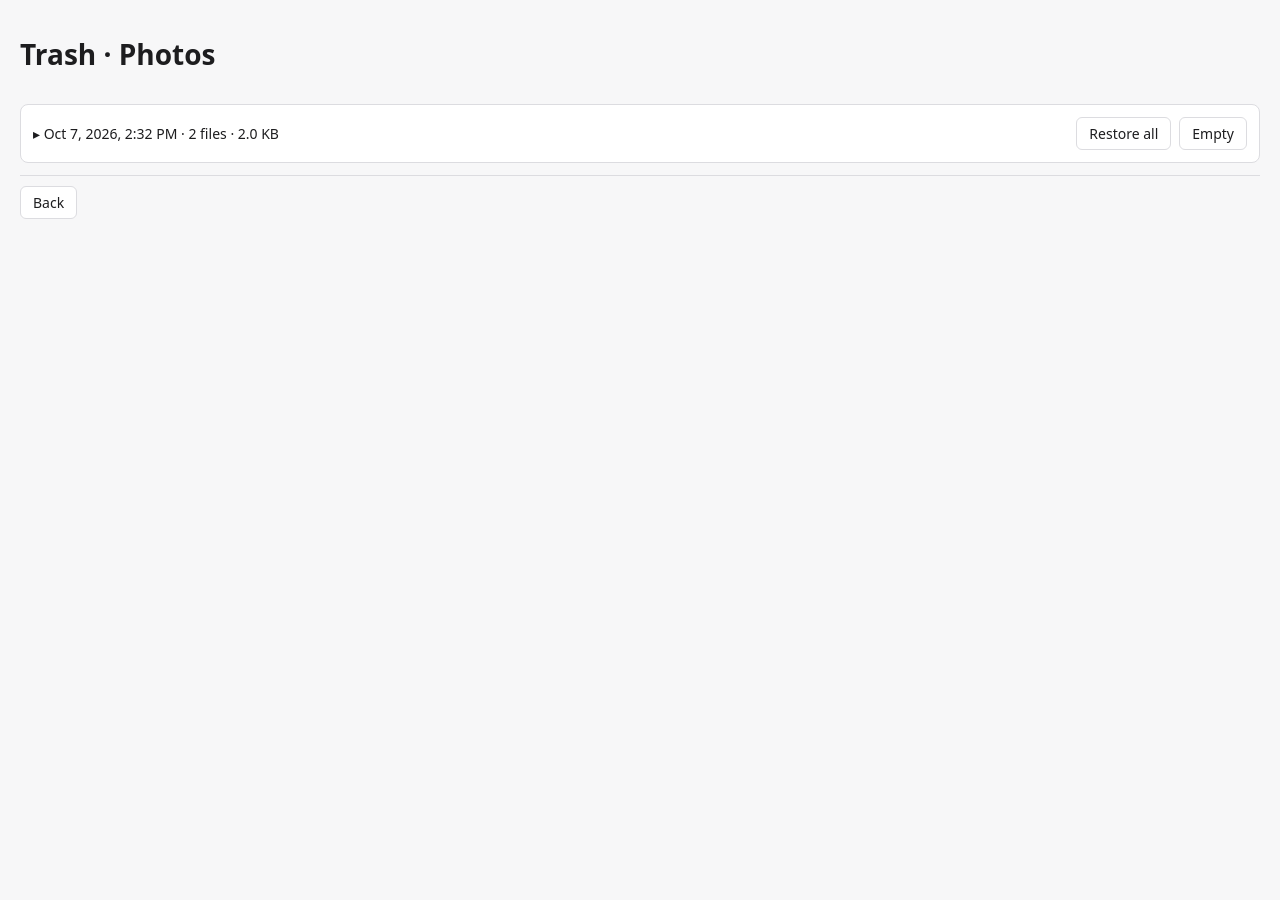
Test: Trash › restores selected files and asks before replacing
The image size is (1280, 900).
Click the button "▸ Oct 7, 2026, 2:32 PM · 2 files · 2.0 KB". click: {"x": 156, "y": 133}
box: 33,124 -> 279,142
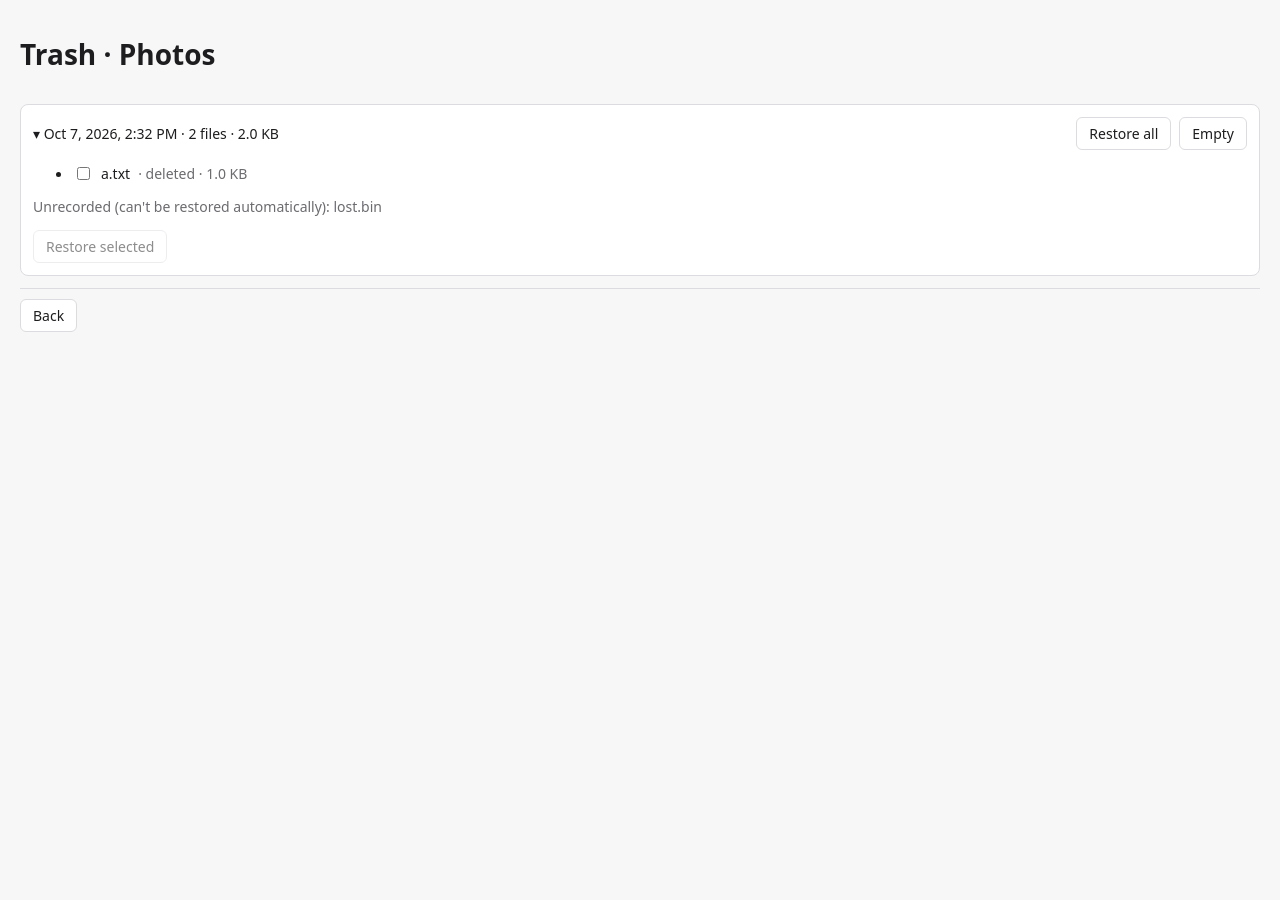
Expected: the text "Unrecorded (can't be restored automatically): lost.bin" is shown, 33,196 -> 382,216
Click the checkbox labelled "a.txt". click: {"x": 84, "y": 173}
box: 77,166 -> 90,180
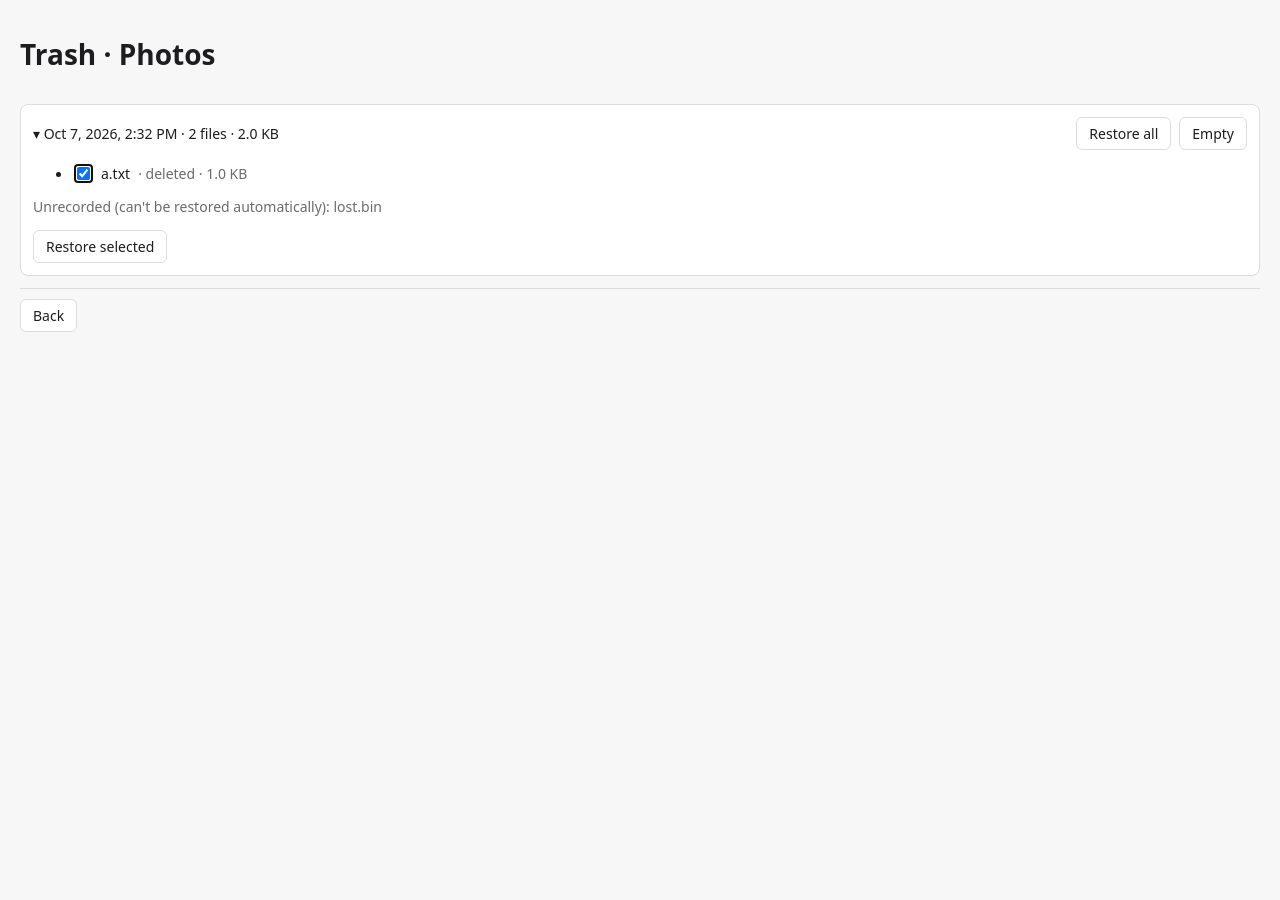
Click the button "Restore selected". click: {"x": 100, "y": 246}
box: 33,230 -> 167,262
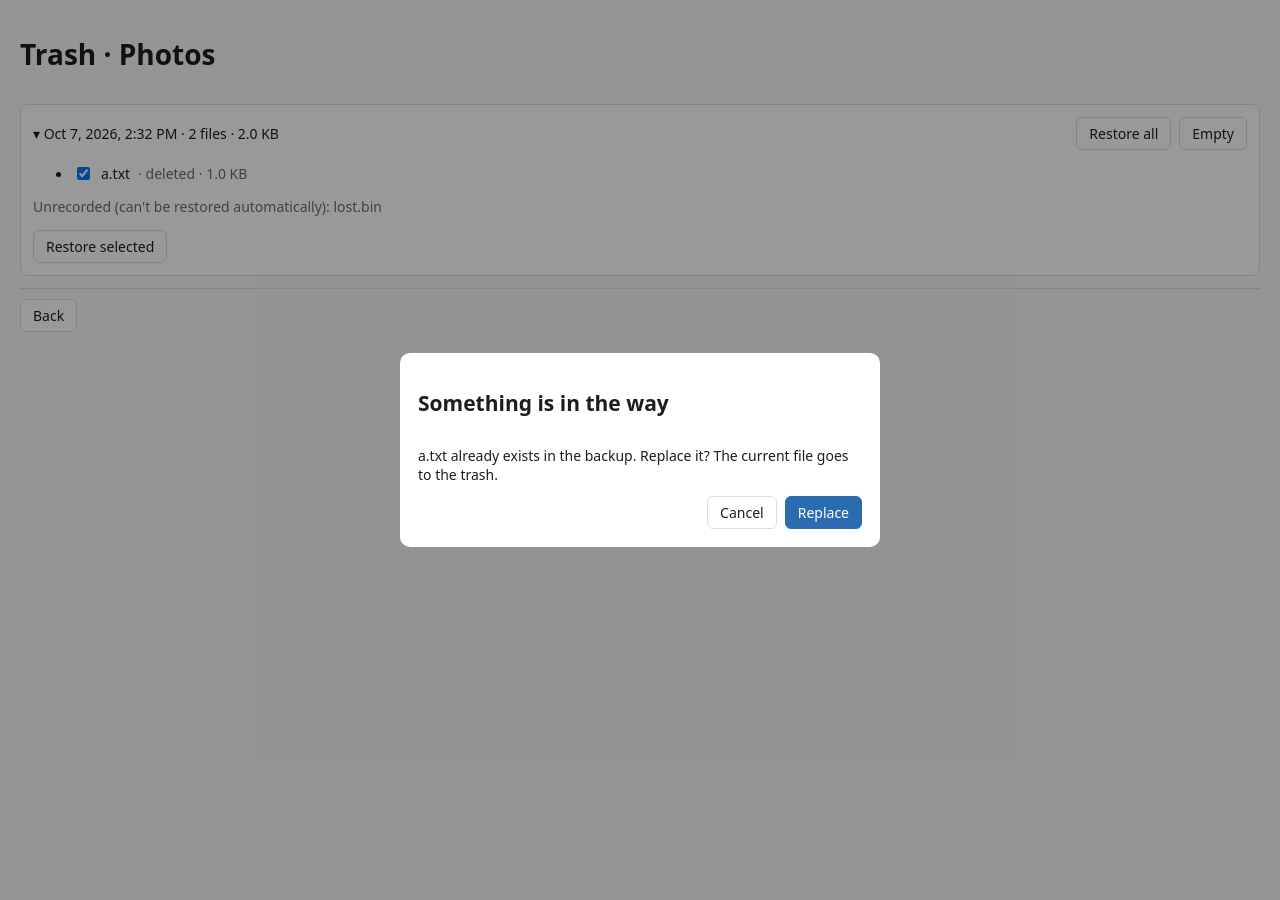
Expected: the dialog "Something is in the way" is shown, 400,353 -> 880,547
Click the button "Replace". click: {"x": 823, "y": 512}
box: 785,496 -> 862,529
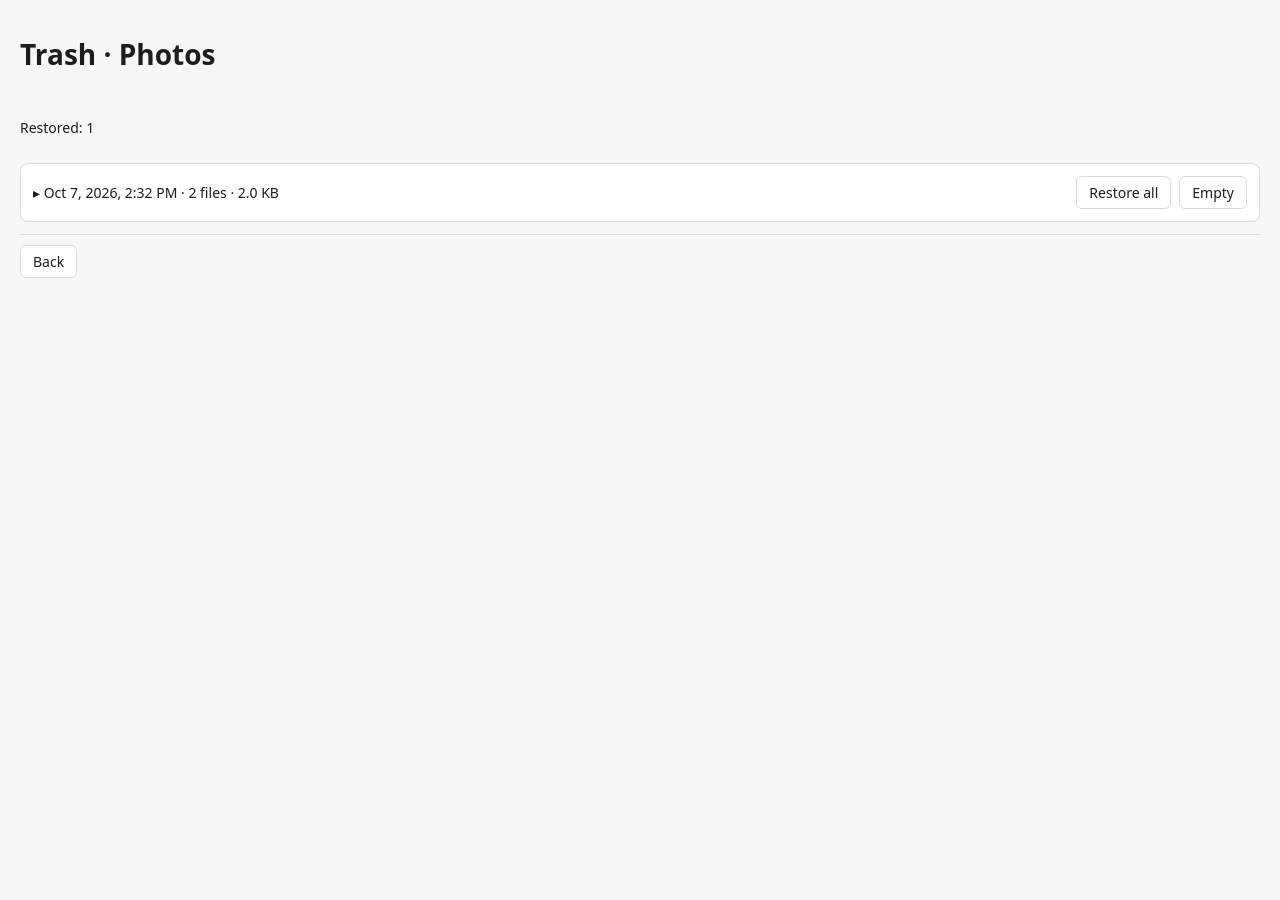
Expected: the text "Restored: 1" is shown, 20,118 -> 94,136
